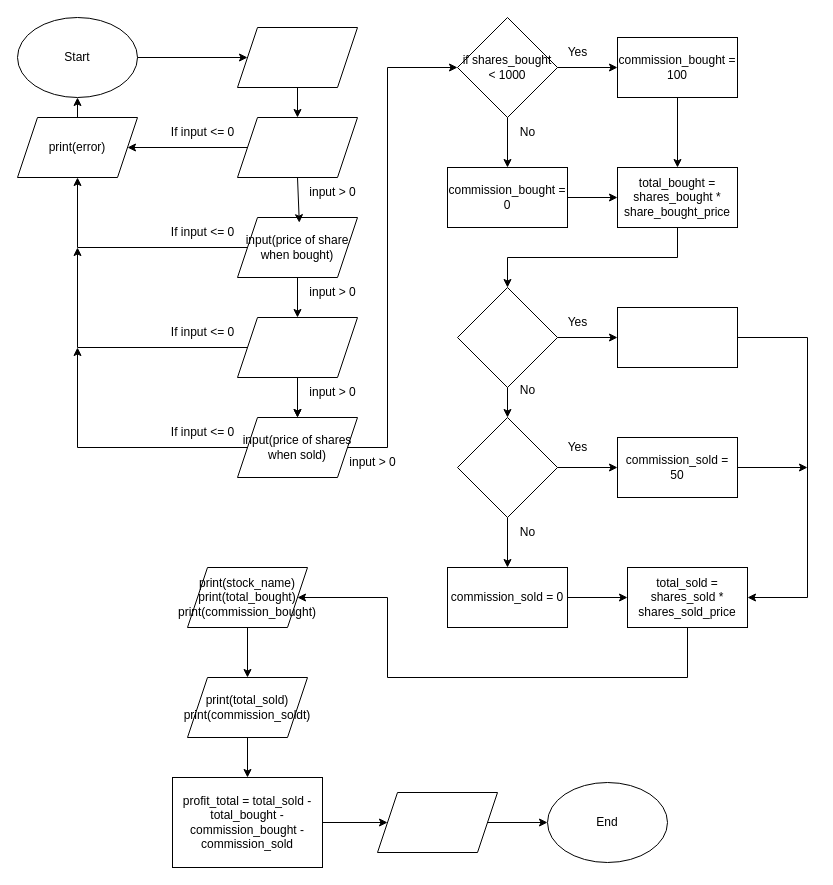
Image size: 833x885. Some labels were removed from this diagram. The box of each missing label's shape, as (x1, y1, x2, y2) in pixels:
commission_sold = 100: (616, 306, 738, 368)
if shares_sold < 1000: (456, 286, 558, 388)
if shares_sold >= 1000, and <=2000: (456, 416, 558, 518)
input("what stock did you purchase): (236, 26, 358, 88)
input(amount of shares bought): (236, 116, 358, 178)
input(amount of shares sold): (236, 316, 358, 378)
print(profit_total): (376, 792, 498, 852)
